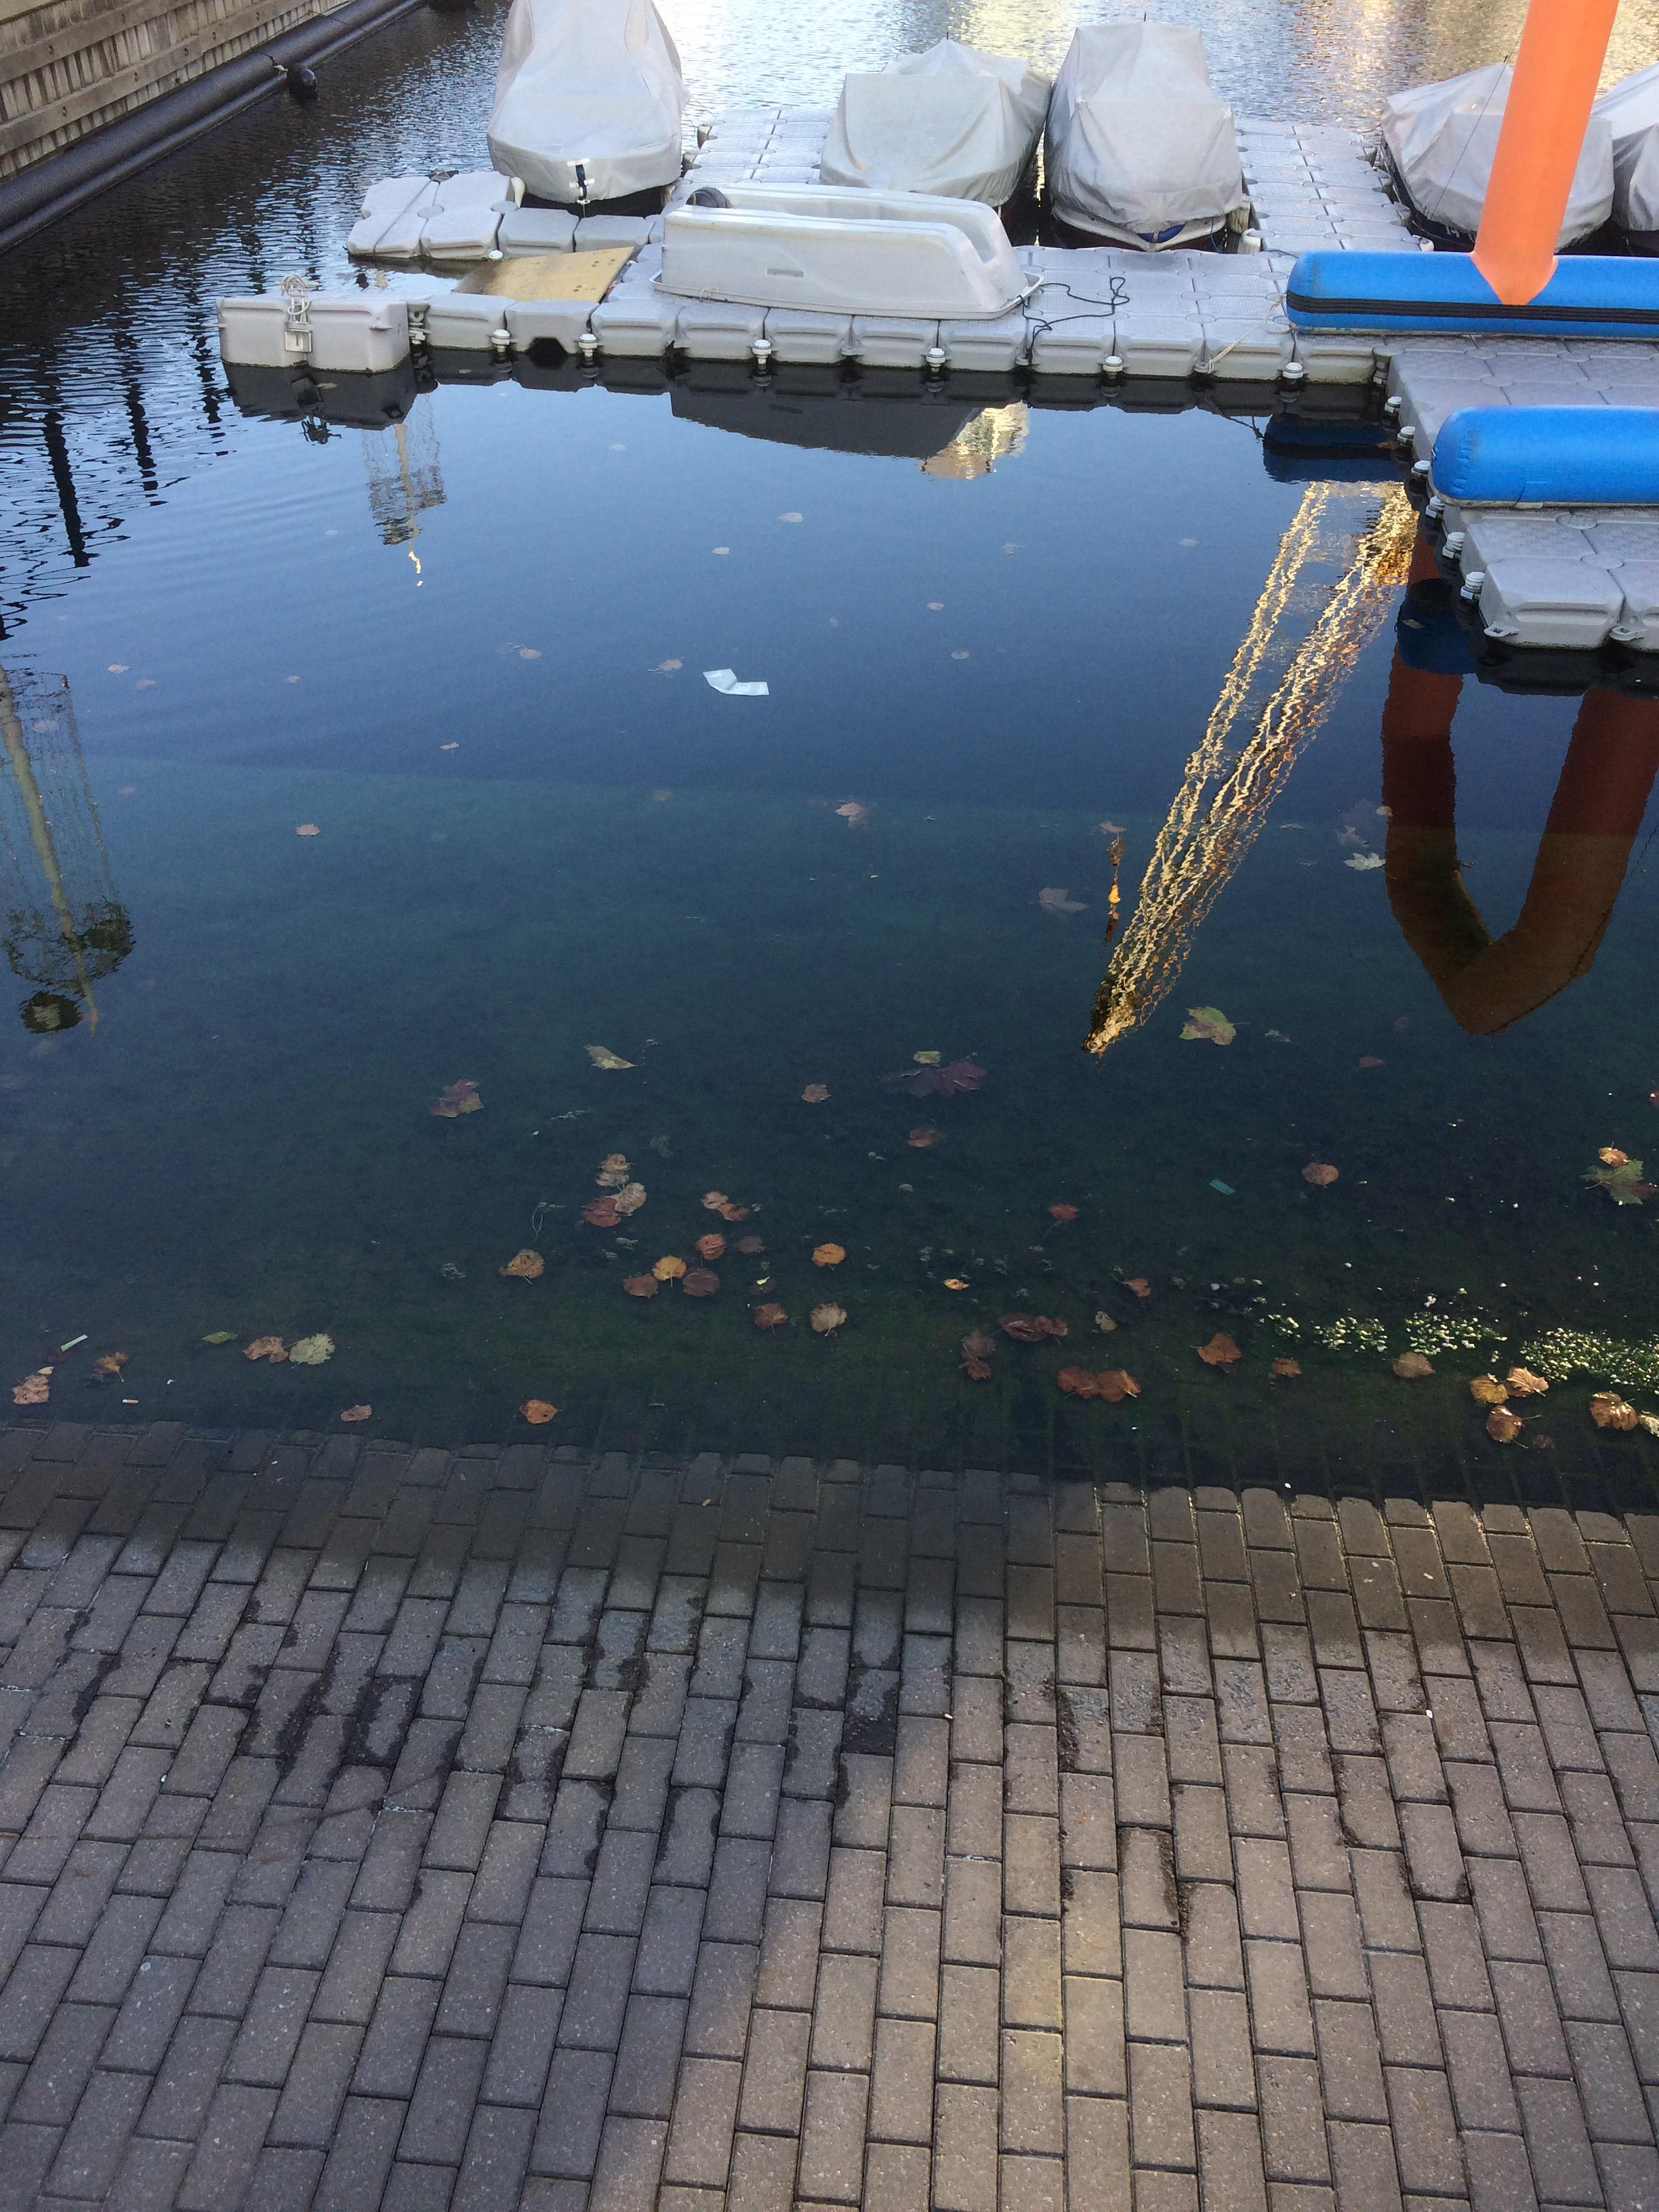Trash: (695, 655, 774, 704)
